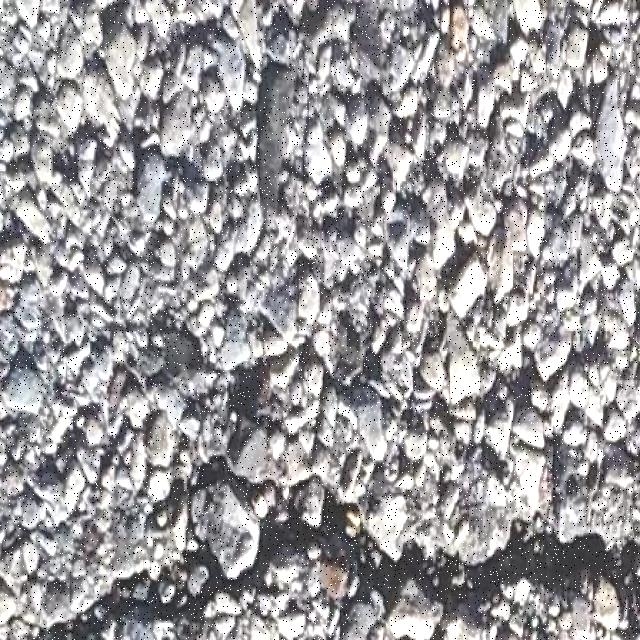Crack: (32, 345, 640, 640)
